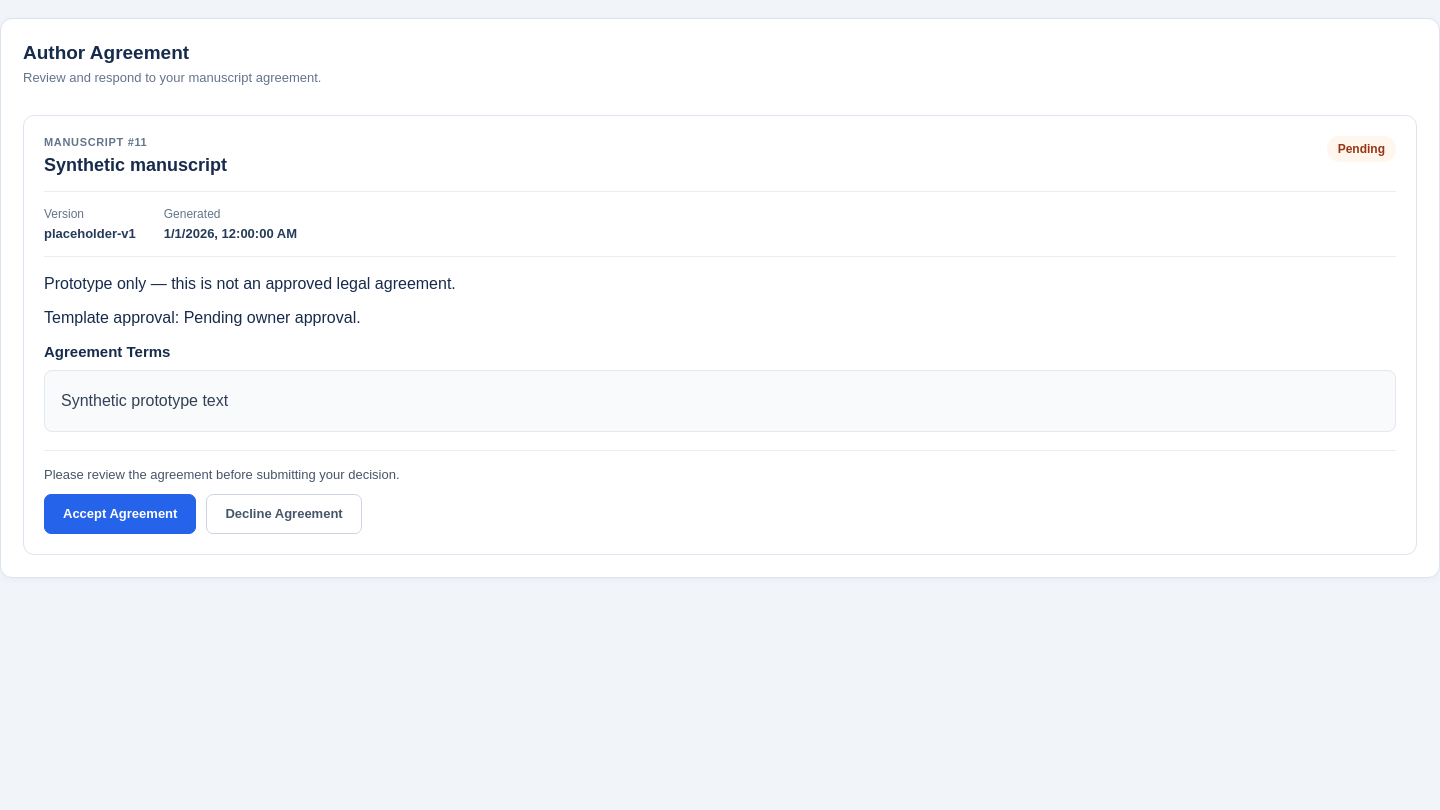
Test case: does not invent a saved response from a malformed success body
Click the button "Accept Agreement". click: (120, 514)
box: [44,494,196,534]
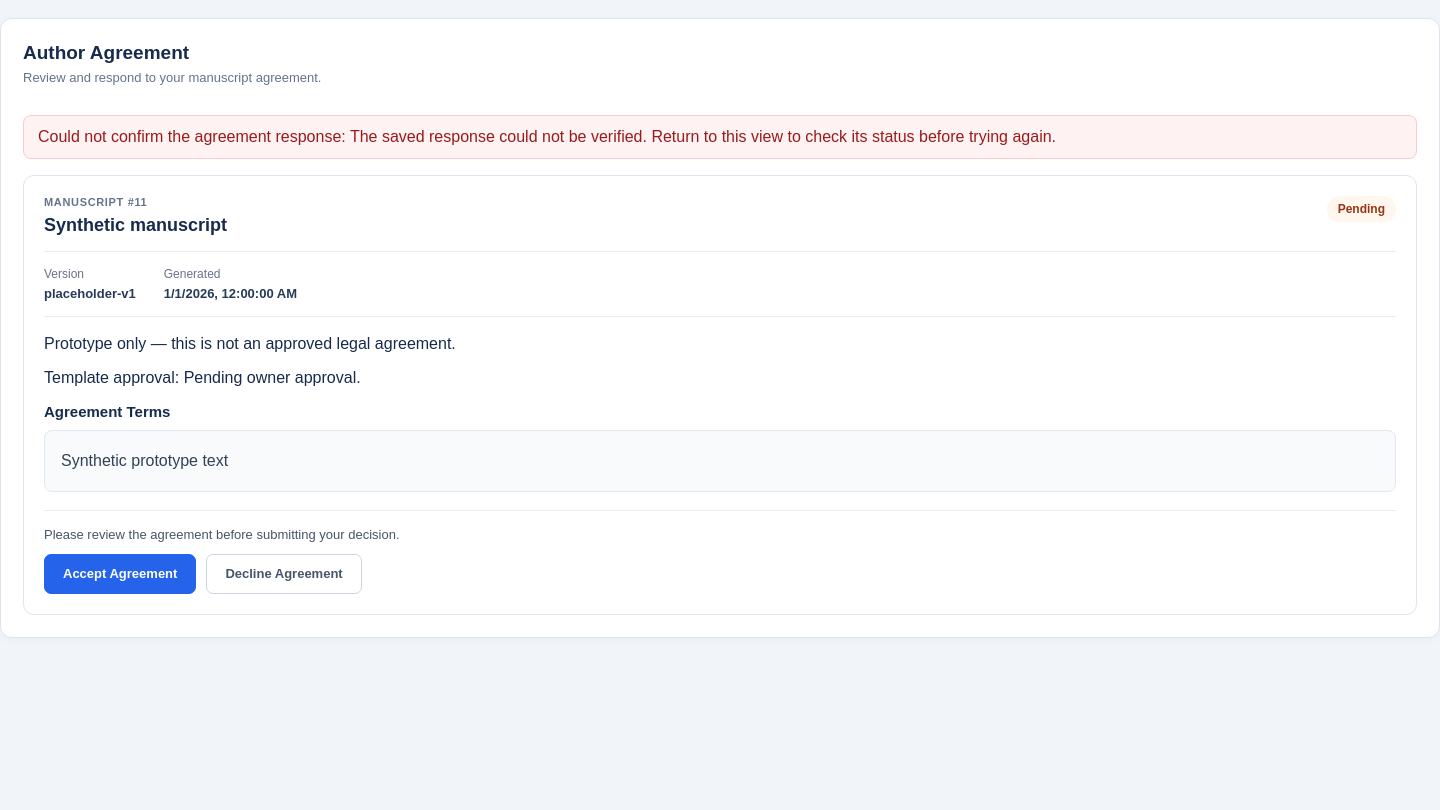
Now the message shows "could not be verified", box [38,128,1056,145]
